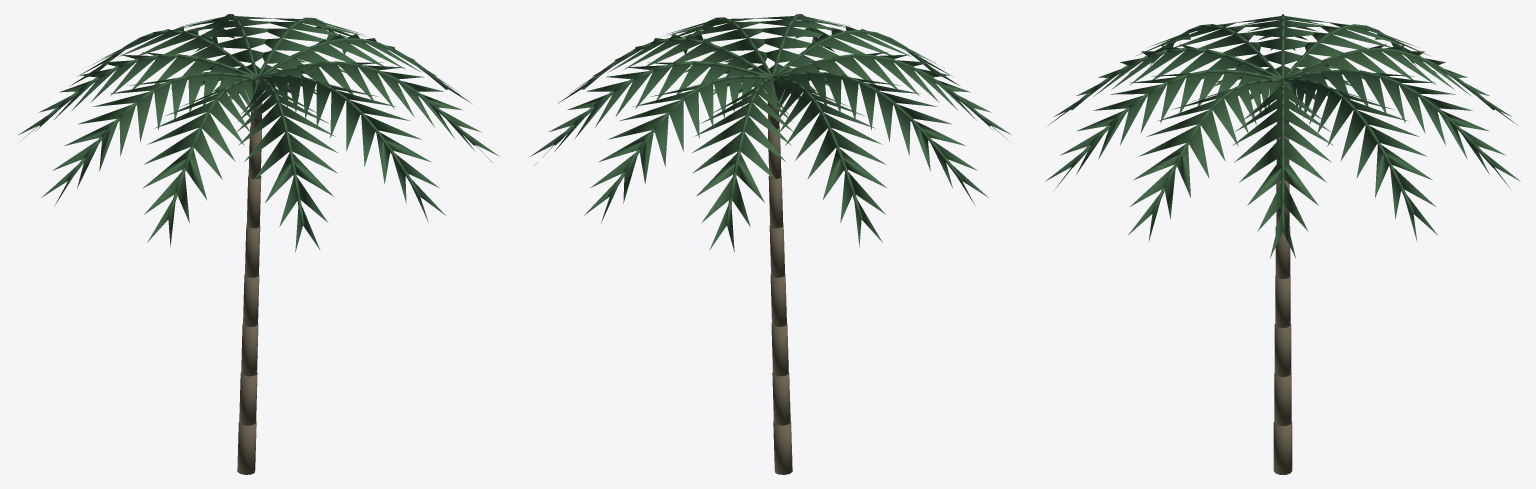
The model's file is palm_plain.glb.
The picture shows the model from 3 angles, left to right: view 1: azimuth 30°, elevation 25°; view 2: azimuth 150°, elevation 25°; view 3: azimuth 270°, elevation 25°; orthographic projection.
Visible parts, largest first — view 1: palm_plain; view 2: palm_plain; view 3: palm_plain.
Boxes of the visible parts, x1,y1,x2,y2 form: palm_plain: (18, 14, 499, 474); palm_plain: (530, 14, 1011, 474); palm_plain: (1045, 14, 1520, 474).
Size of the model in its own units: 9.04 by 8.43 by 8.75.
